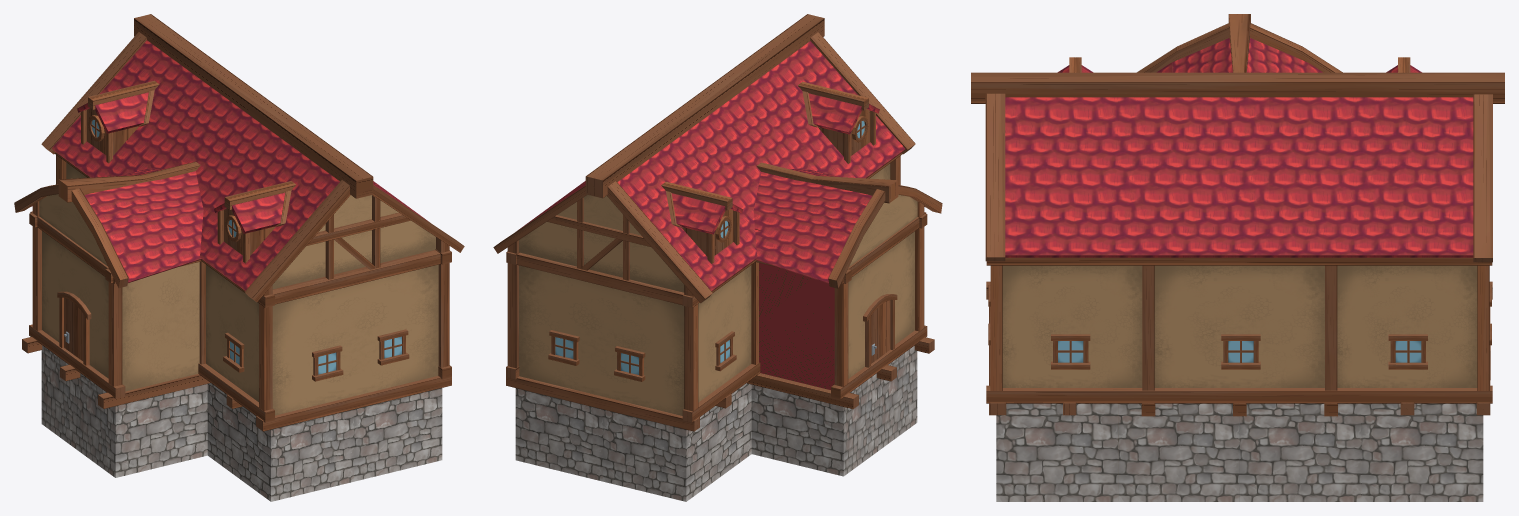
The model's file is house_town_red_3.glb.
The picture shows the model from 3 angles, left to right: view 1: azimuth 30°, elevation 25°; view 2: azimuth 150°, elevation 25°; view 3: azimuth 270°, elevation 25°; orthographic projection. The views are drawn at different scales.
Parts seen in each view (by area): view 1: house_town_red_3_; view 2: house_town_red_3_; view 3: house_town_red_3_.
Boxes of the visible parts, x1,y1,x2,y2 form: house_town_red_3_: [14, 14, 464, 501]; house_town_red_3_: [493, 14, 942, 501]; house_town_red_3_: [971, 14, 1504, 501].
Bounding box in the file's own units: 13.49 × 13.52 × 17.54.
1 material, 1 textured.
